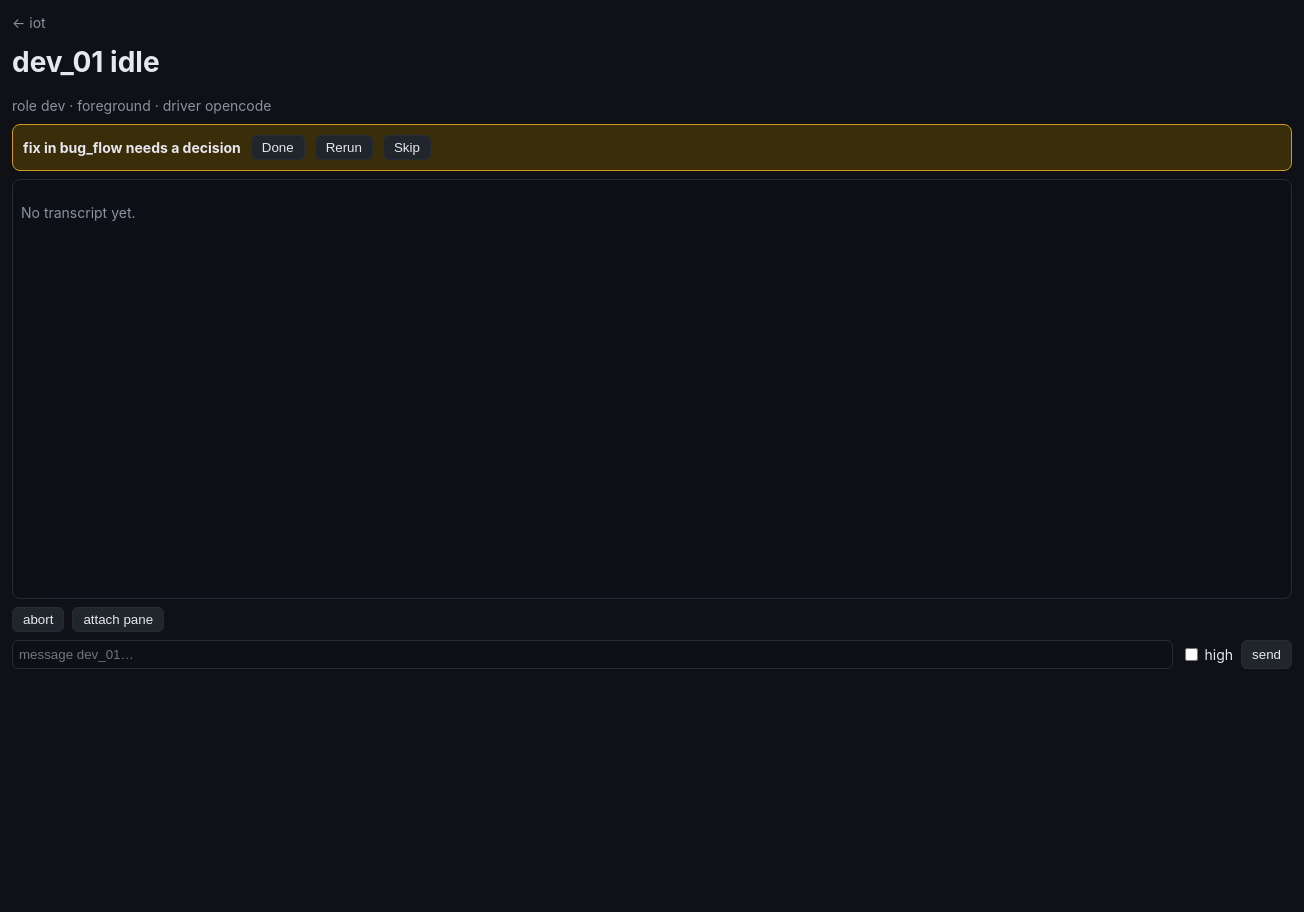
Test case: decide banner › surfaces a 409 from the decide endpoint in the alert pattern
Expected: the text "fix in bug_flow needs a decision" is shown, [23, 137, 241, 158]
Click the button "Done". click: coordinates (278, 148)
box: [251, 135, 305, 160]
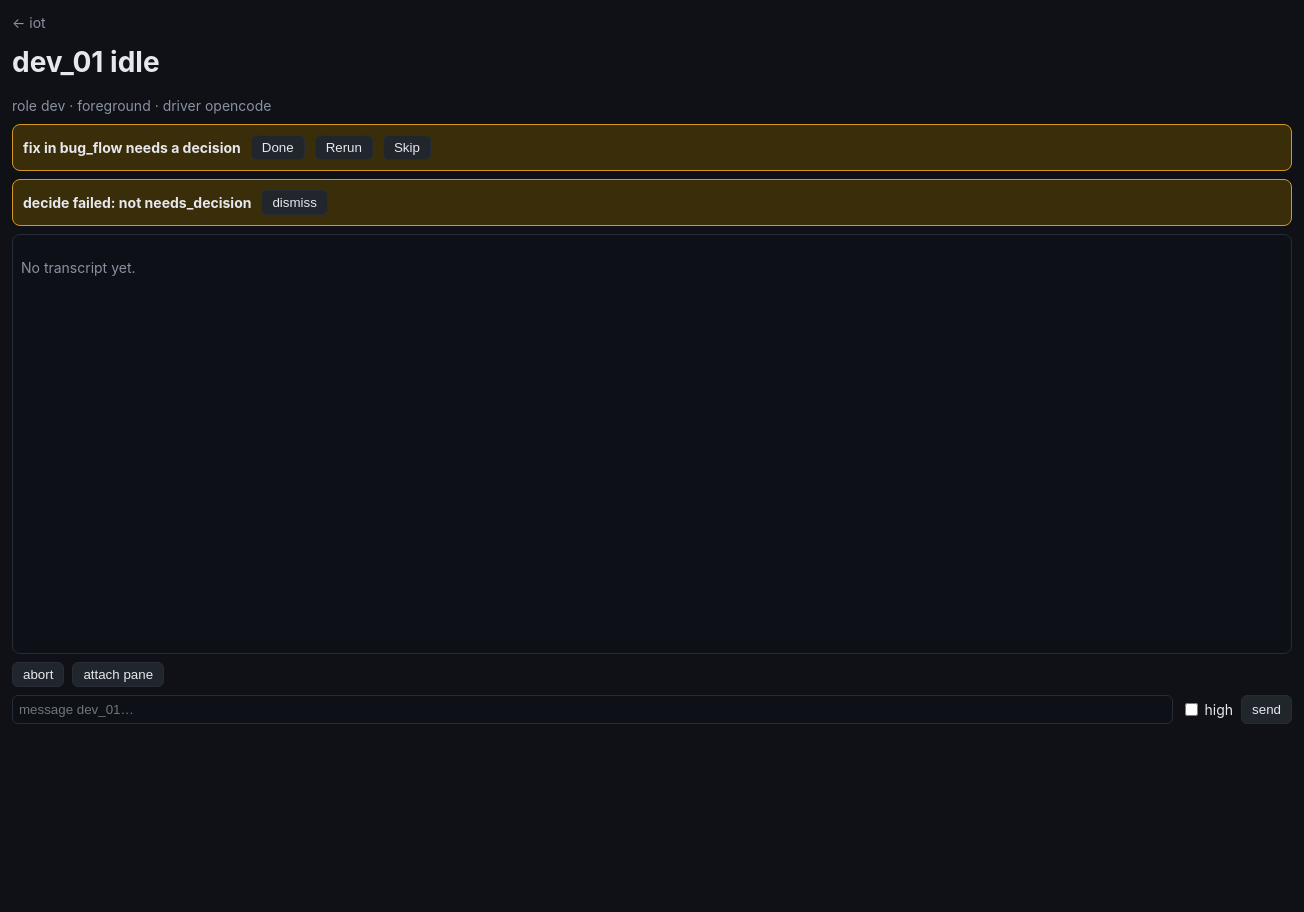
Now the message shows "decide failed: not needs_decision", box [23, 194, 252, 211]
